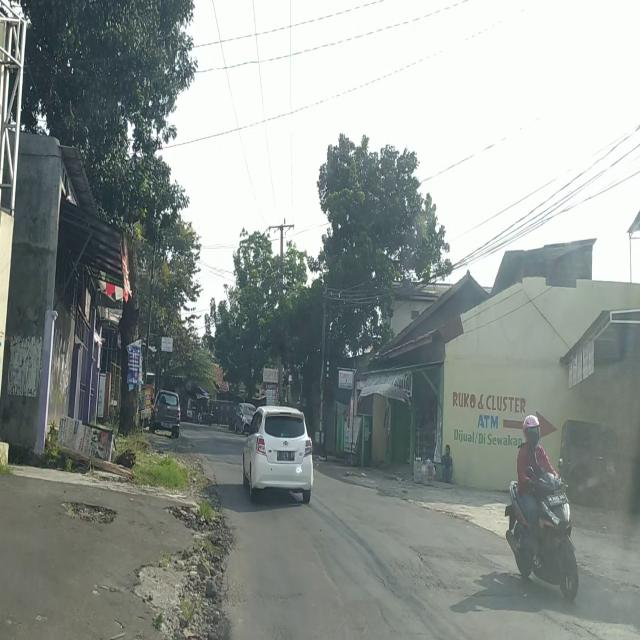Drain Hole: (379, 554, 448, 598)
